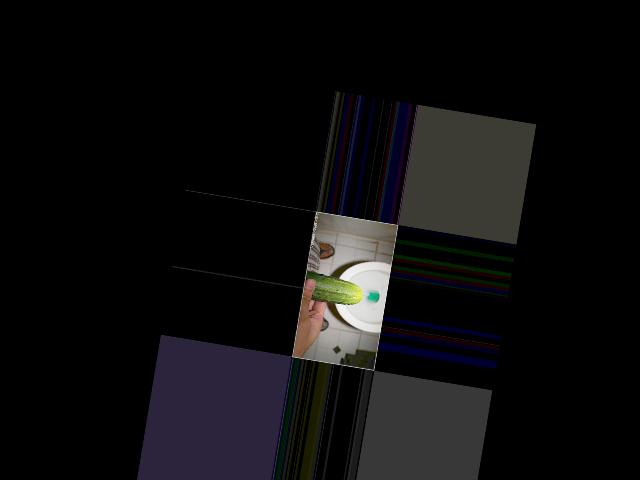cucumber: (301, 270, 364, 307)
